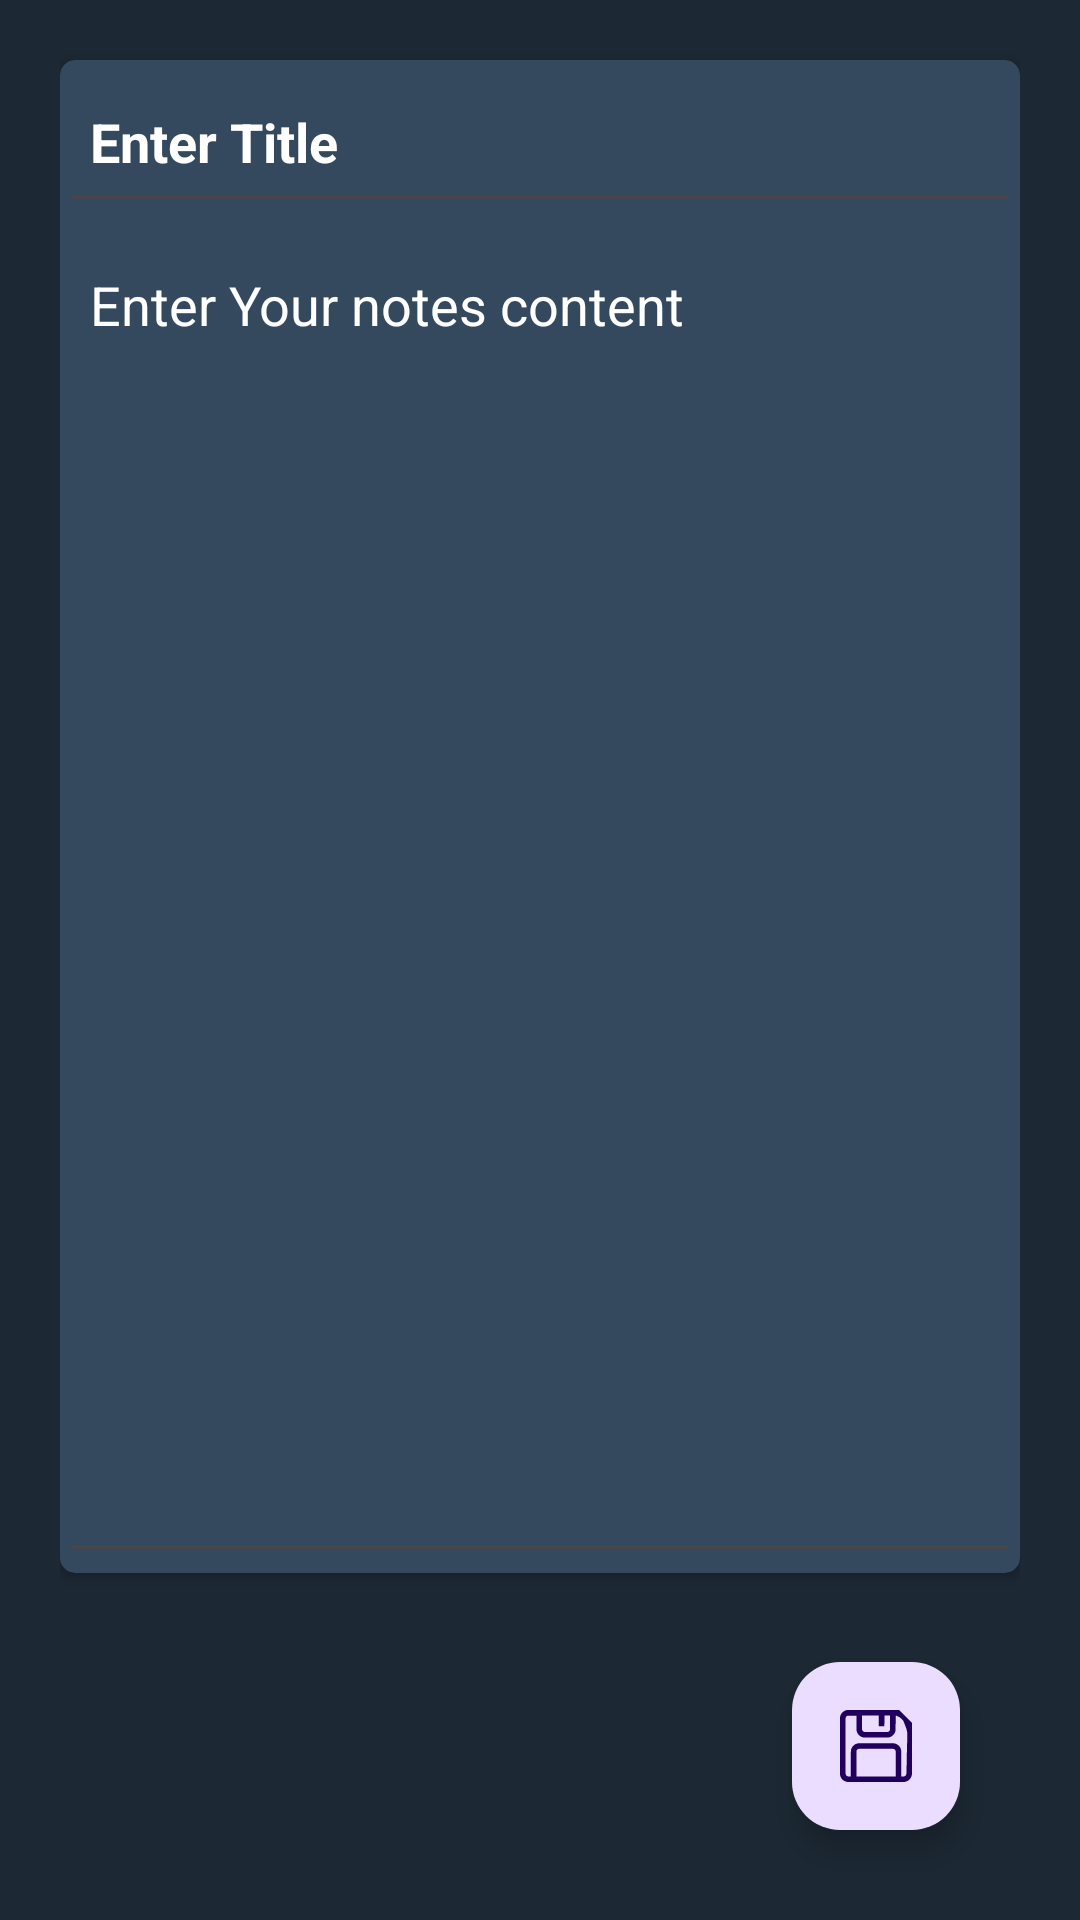

Locate icon controls on the screen. Image size 1080x1920, boxes as rect(x1, y1, x2, y2).
save: rect(792, 1662, 960, 1830)
